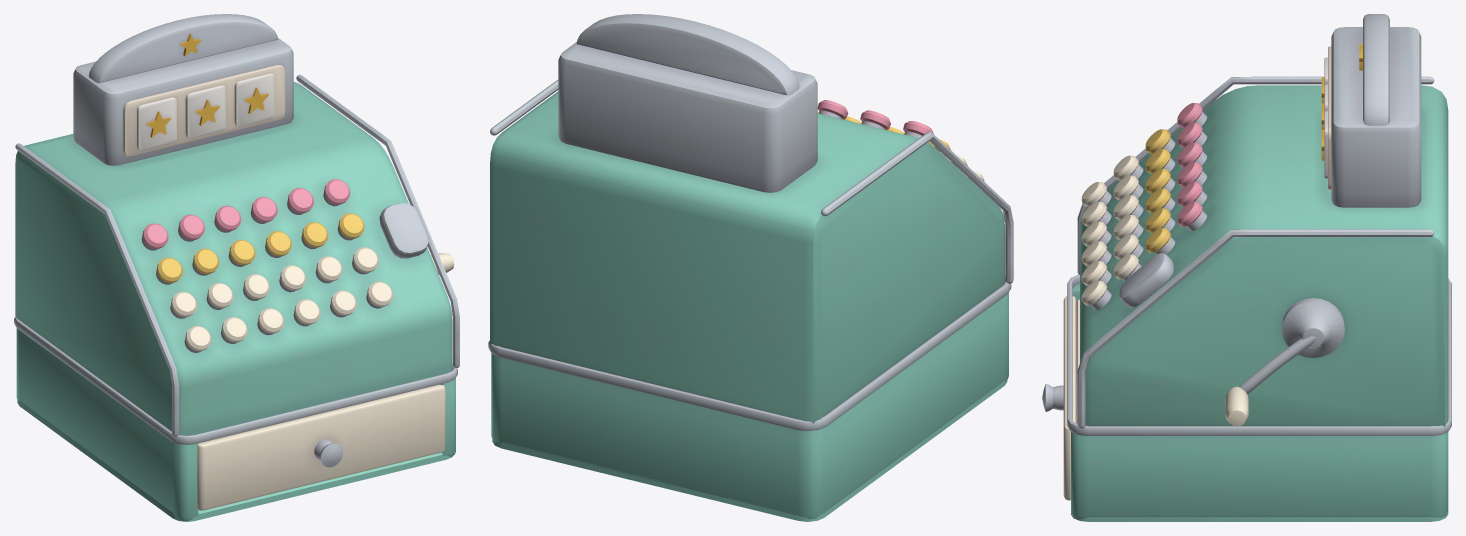
Rendered from cash-register.glb.
3 renders of one model, left to right at view 1: azimuth 30°, elevation 25°; view 2: azimuth 150°, elevation 25°; view 3: azimuth 270°, elevation 25°, orthographic. The views are drawn at different scales.
Visible parts, largest first — view 1: cash-register_body, cash-register_drawer; view 2: cash-register_body; view 3: cash-register_body, cash-register_drawer.
Part boxes in pixels (bbox=[...]): cash-register_body: bbox=[14, 14, 459, 521]; cash-register_drawer: bbox=[197, 384, 445, 510]; cash-register_body: bbox=[488, 14, 1013, 521]; cash-register_body: bbox=[1067, 14, 1451, 521]; cash-register_drawer: bbox=[1042, 296, 1079, 500].
Size of the model in its own units: 0.4995 by 0.502 by 0.456.
2 materials, 2 textured.
